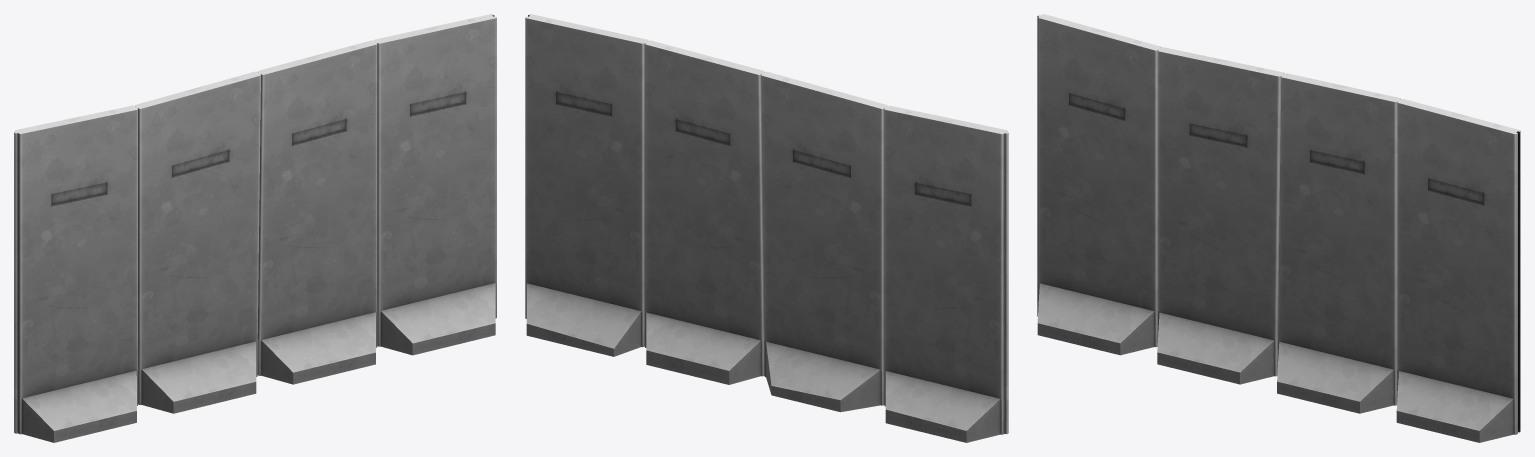
Rendered from BarrierConcrete01_5.FBX.
3 views of the same model, side by side, from view 1: azimuth 30°, elevation 25°; view 2: azimuth 150°, elevation 25°; view 3: azimuth 330°, elevation 25° (orthographic).
Visible parts, largest first — view 1: BarrierConcrete01_5; view 2: BarrierConcrete01_5; view 3: BarrierConcrete01_5.
Boxes of the visible parts, left/top/right/bottom form: BarrierConcrete01_5: left=14, top=14, right=496, bottom=442; BarrierConcrete01_5: left=525, top=14, right=1008, bottom=442; BarrierConcrete01_5: left=1037, top=14, right=1520, bottom=442.
Size of what is drawn, in the model's own units: 5.02 by 3.03 by 0.7195.
